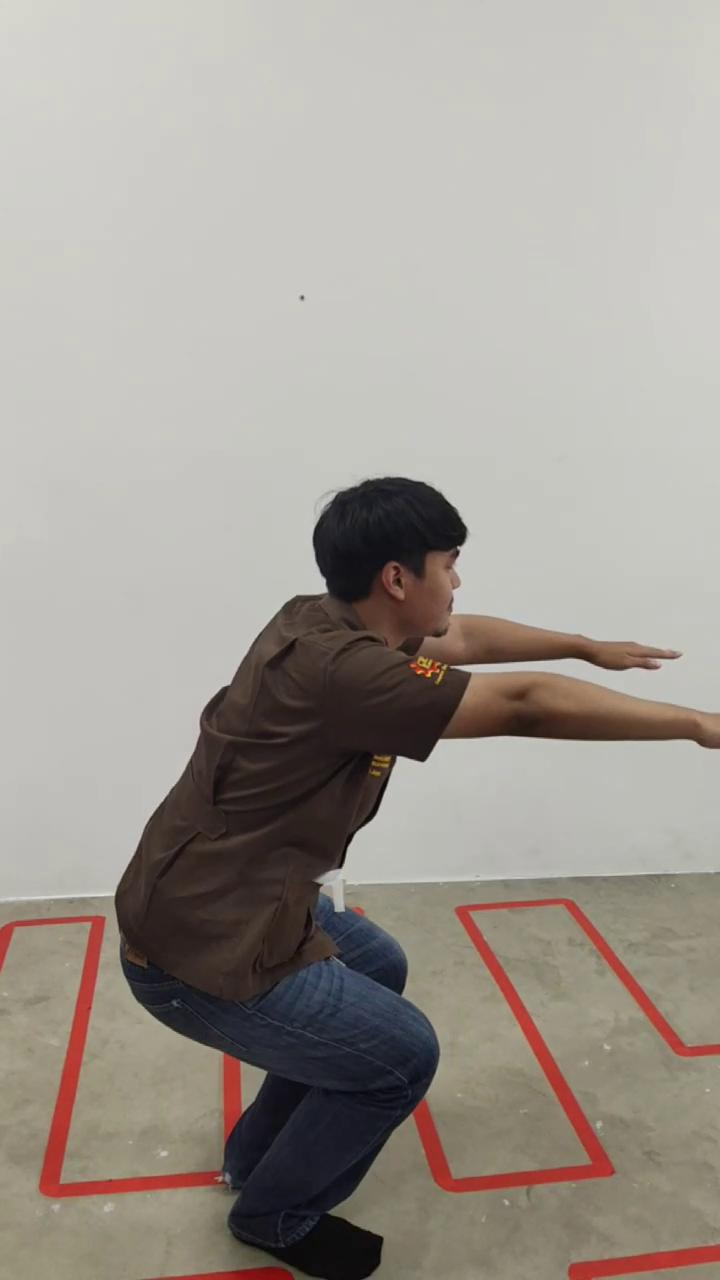squat down: (115, 478, 718, 1280)
